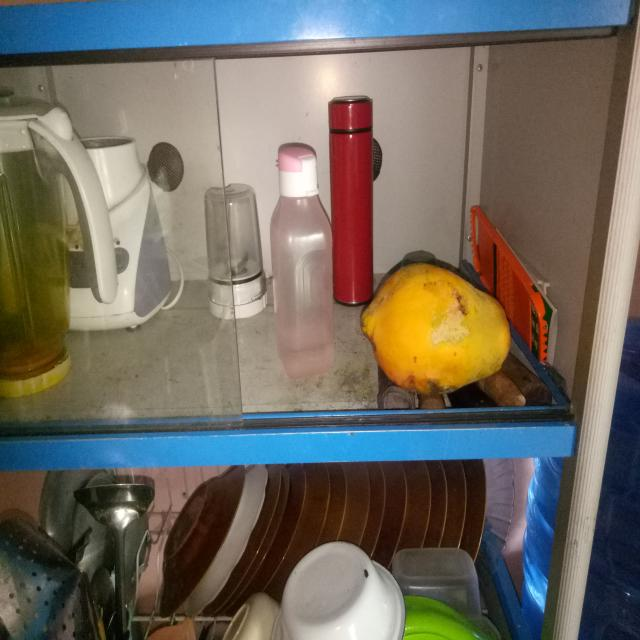Pepaya rippen: (358, 264, 509, 395)
